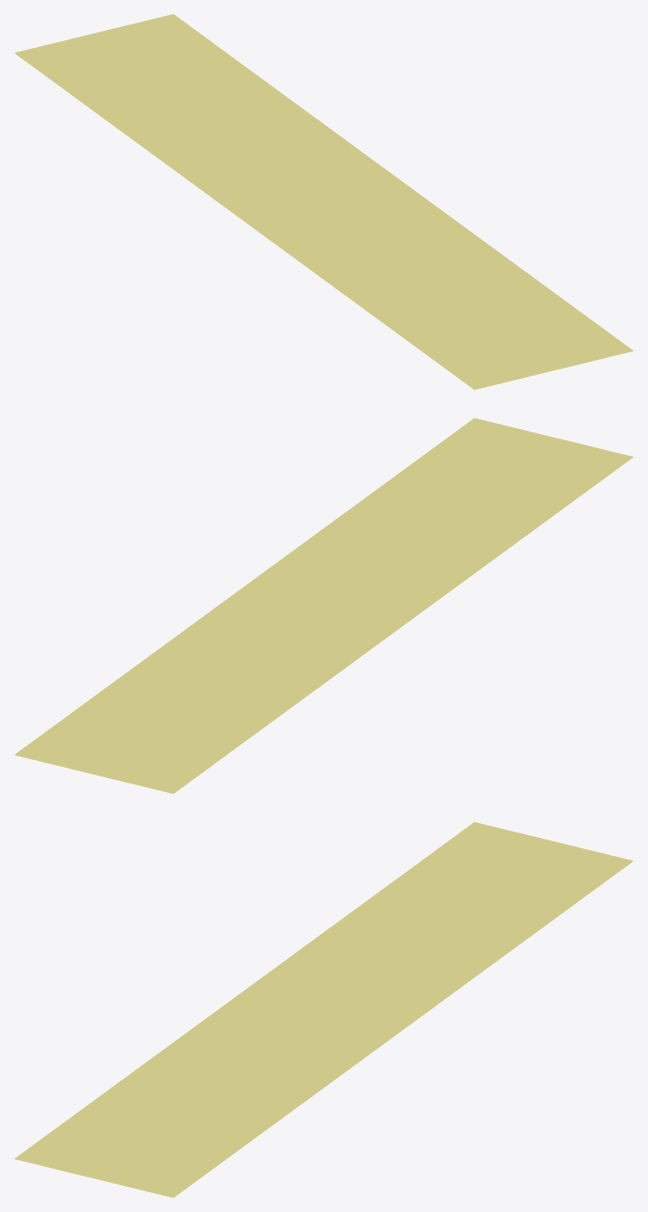
The model's file is Ceiling_1x_5x.FBX.
The picture shows the model from 3 angles, top to bottom: view 1: azimuth 30°, elevation 25°; view 2: azimuth 150°, elevation 25°; view 3: azimuth 330°, elevation 25°; orthographic projection.
Parts seen in each view (by area): view 1: Ceiling_1x_5x; view 2: Ceiling_1x_5x; view 3: Ceiling_1x_5x.
Boxes of the visible parts, x1,y1,x2,y2 form: Ceiling_1x_5x: [14, 14, 633, 389]; Ceiling_1x_5x: [14, 418, 633, 793]; Ceiling_1x_5x: [14, 822, 633, 1197].
Bounding box in the file's own units: 100 × 500 × 8.66e-06.
